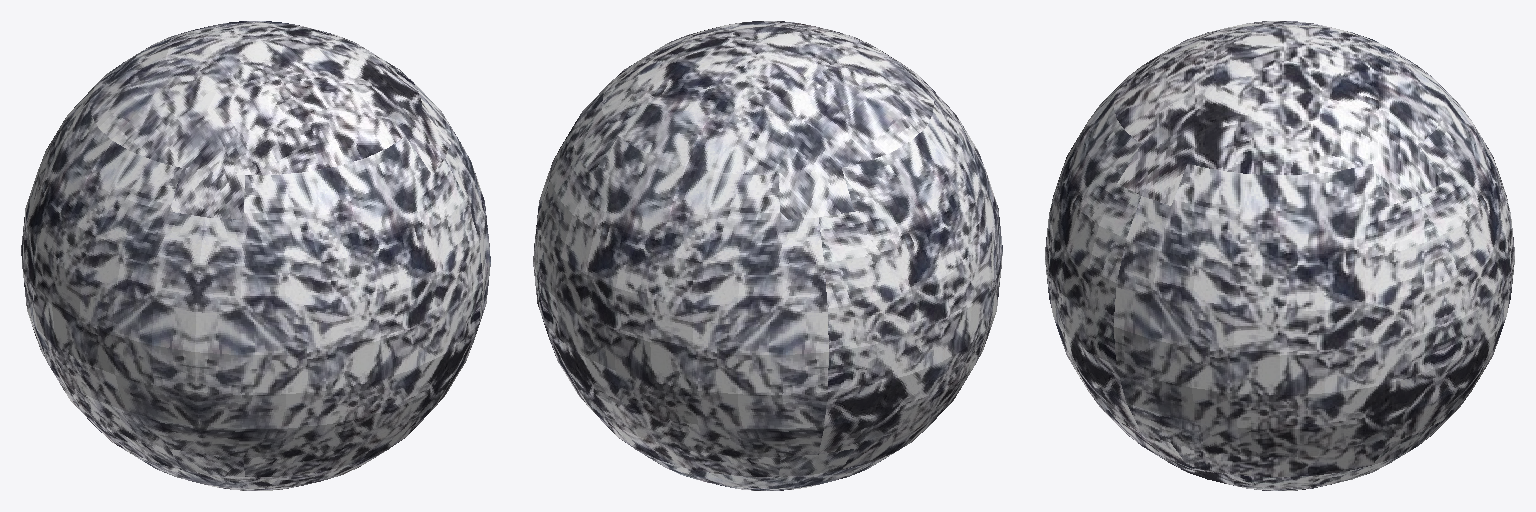
3 renders of one model, left to right at view 1: azimuth 30°, elevation 25°; view 2: azimuth 150°, elevation 25°; view 3: azimuth 270°, elevation 25°, orthographic.
Parts seen in each view (by area): view 1: silver_particle; view 2: silver_particle; view 3: silver_particle.
Part boxes in pixels (left/top/right/bottom): silver_particle: left=21, top=21, right=490, bottom=490; silver_particle: left=533, top=21, right=1002, bottom=490; silver_particle: left=1045, top=21, right=1514, bottom=490.
Bounding box in the file's own units: 2 × 2 × 2.
Materials: 1 (1 with a texture image).